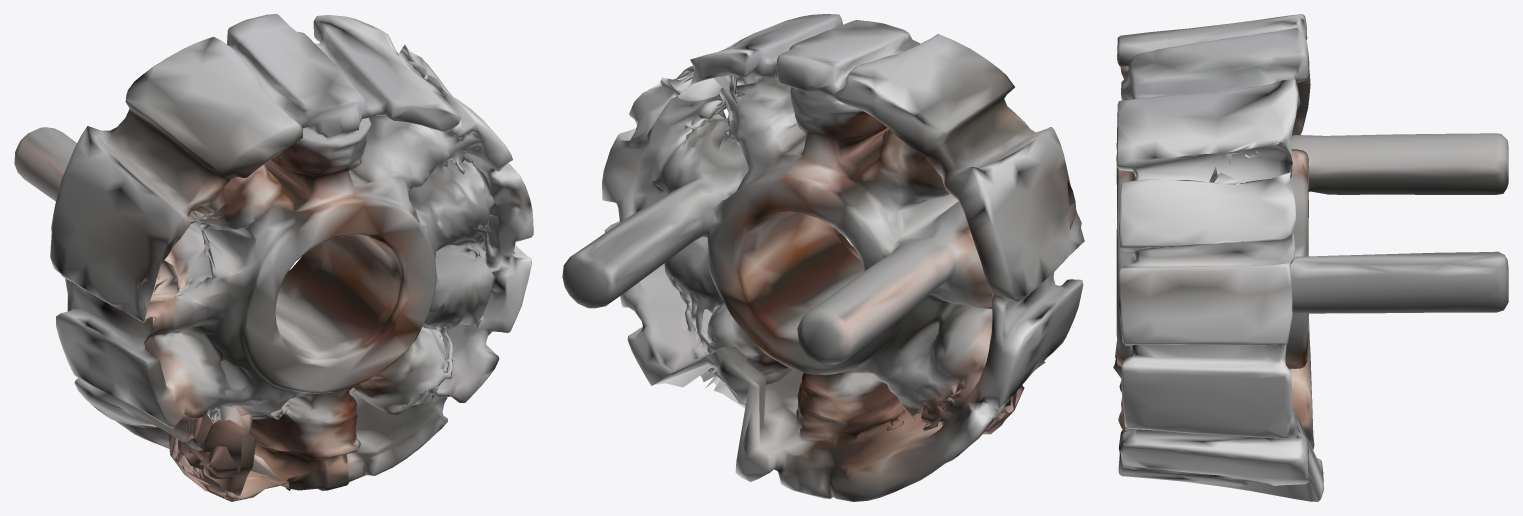
Rendered from motor_defect.glb.
3 views of the same model, side by side, from view 1: azimuth 30°, elevation 25°; view 2: azimuth 150°, elevation 25°; view 3: azimuth 270°, elevation 25° (orthographic). The views are drawn at different scales.
Parts seen in each view (by area): view 1: tmp5eqale33.ply; view 2: tmp5eqale33.ply; view 3: tmp5eqale33.ply.
Part boxes in pixels (box(x1,y1,x2,y2)): tmp5eqale33.ply: box(14, 14, 533, 501); tmp5eqale33.ply: box(562, 14, 1084, 501); tmp5eqale33.ply: box(1113, 14, 1508, 501).
Size of the model in its own units: 1 by 0.9998 by 0.8044.
